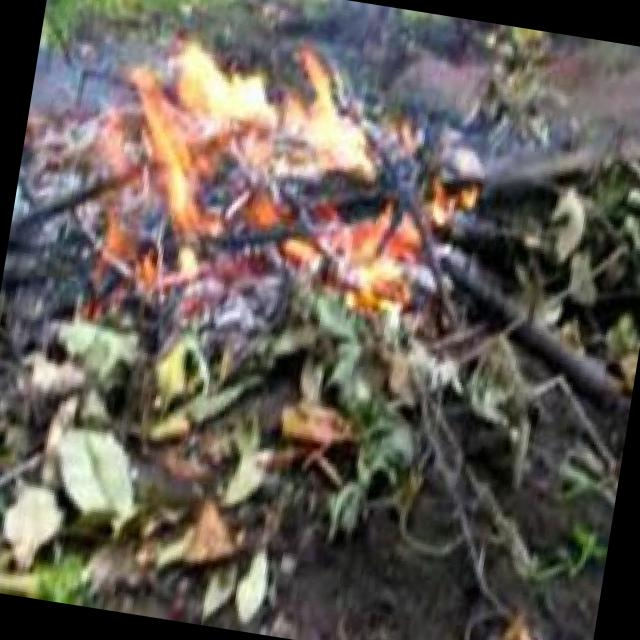Smoke: (69, 32, 469, 330)
